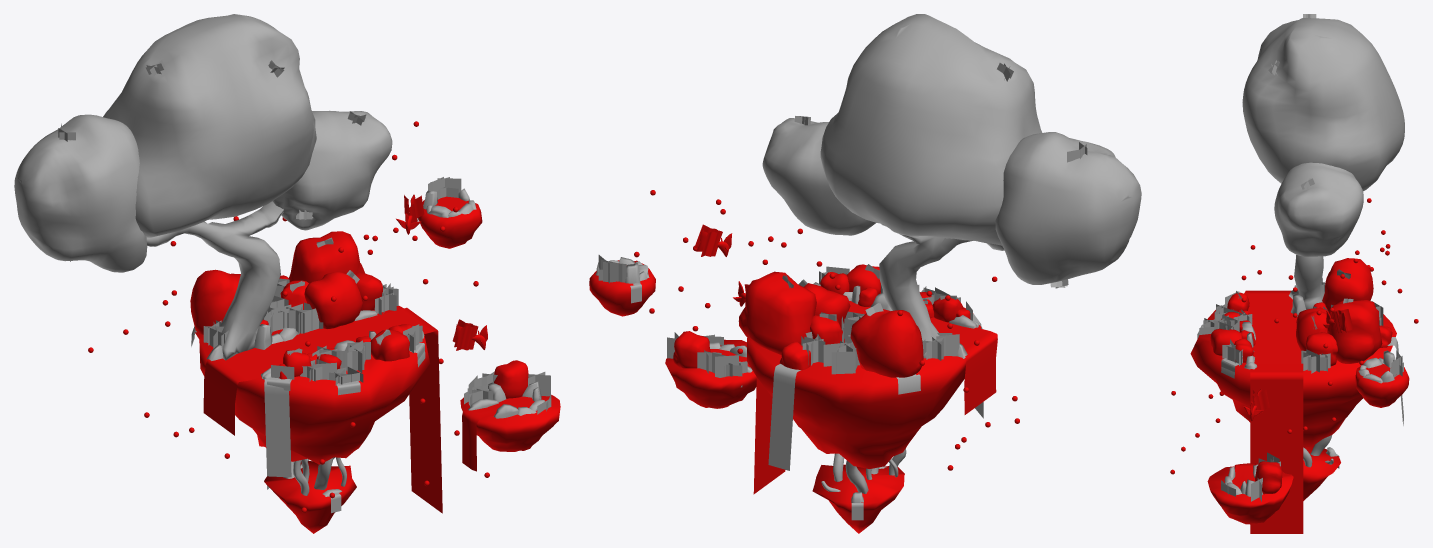
The picture shows the model from 3 angles, left to right: view 1: azimuth 30°, elevation 25°; view 2: azimuth 150°, elevation 25°; view 3: azimuth 270°, elevation 25°; orthographic projection. The views are drawn at different scales.
Visible parts, largest first — view 1: FoliagePlain50; view 2: FoliagePlain50; view 3: FoliagePlain50.
Boxes of the visible parts, <box> form: FoliagePlain50: <box>14,14,560,533</box>; FoliagePlain50: <box>589,14,1141,533</box>; FoliagePlain50: <box>1170,14,1418,533</box>.
Size of the model in its own units: 3833 by 3890 by 1950.
